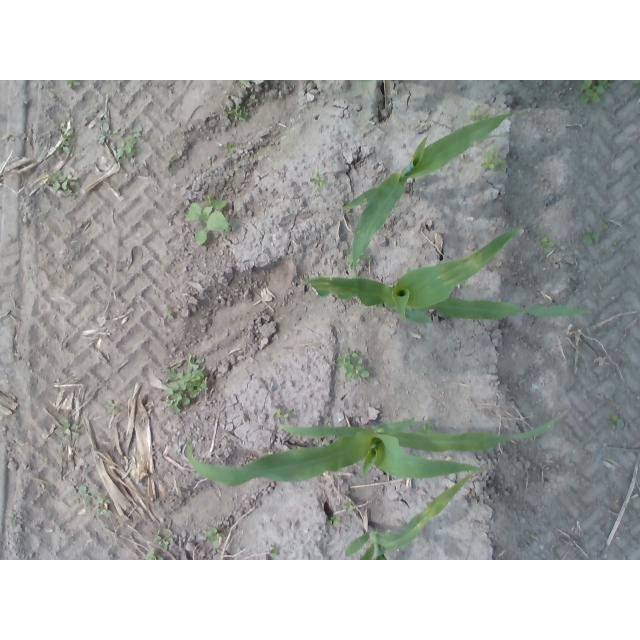Maize: (342, 106, 531, 279), (302, 223, 591, 325), (186, 410, 567, 487), (344, 472, 475, 560)
Weeds: (165, 354, 208, 415), (186, 194, 231, 245), (336, 348, 371, 380), (116, 125, 144, 162), (47, 170, 81, 199), (580, 80, 616, 104), (56, 121, 77, 155), (582, 220, 610, 244), (481, 147, 508, 169), (203, 525, 225, 547), (466, 106, 491, 123), (94, 494, 112, 516), (347, 250, 370, 267), (227, 106, 249, 123), (155, 531, 174, 550), (95, 120, 110, 143), (310, 170, 331, 186), (56, 417, 72, 438), (78, 484, 94, 504), (608, 413, 625, 430), (414, 422, 436, 434), (273, 408, 293, 420), (144, 549, 164, 560), (538, 236, 556, 248), (106, 399, 119, 413), (86, 109, 99, 122), (222, 140, 236, 152), (327, 516, 341, 526), (64, 80, 80, 88), (344, 502, 355, 513), (8, 514, 16, 527), (269, 547, 279, 557), (165, 310, 174, 319), (239, 80, 250, 85), (633, 80, 640, 84)
